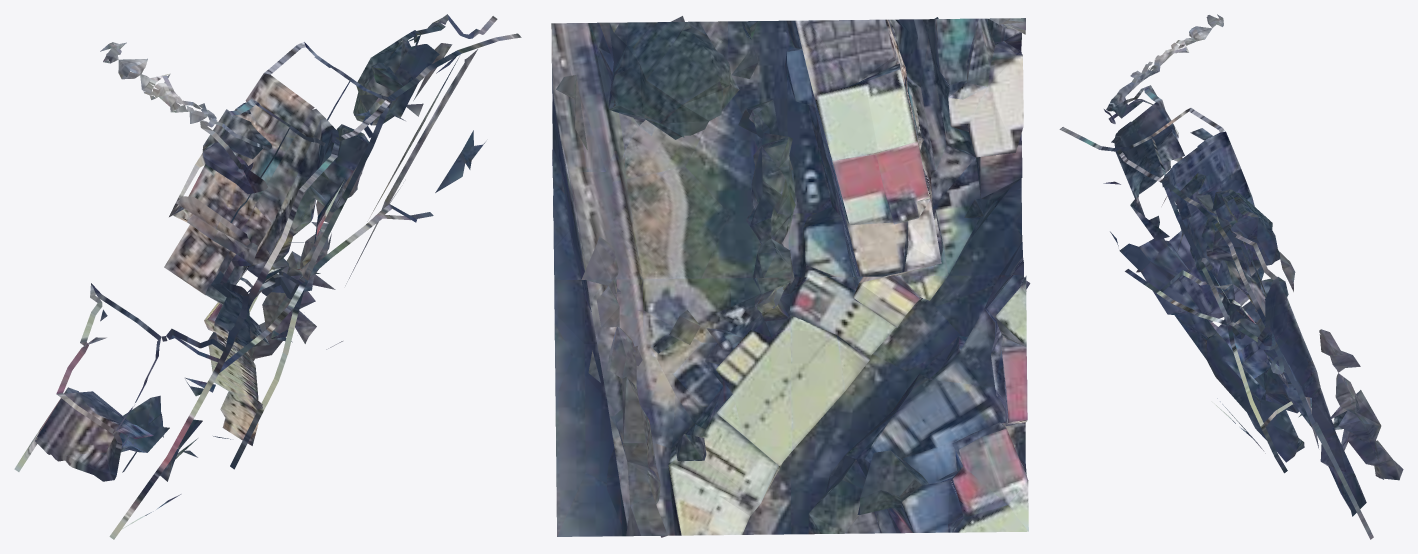
3 renders of one model, left to right at view 1: azimuth 30°, elevation 25°; view 2: azimuth 150°, elevation 25°; view 3: azimuth 270°, elevation 25°, orthographic. The views are drawn at different scales.
Bounding box in the file's own units: 87.2 × 86.77 × 68.5.
1 material, 1 textured.
